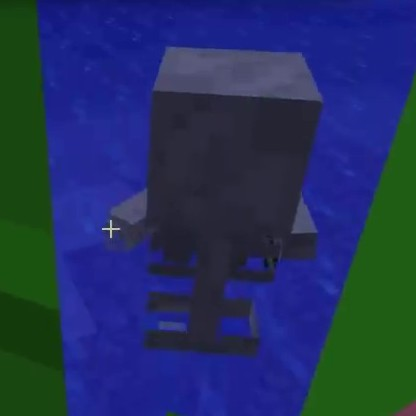skeleton: (125, 43, 319, 361)
